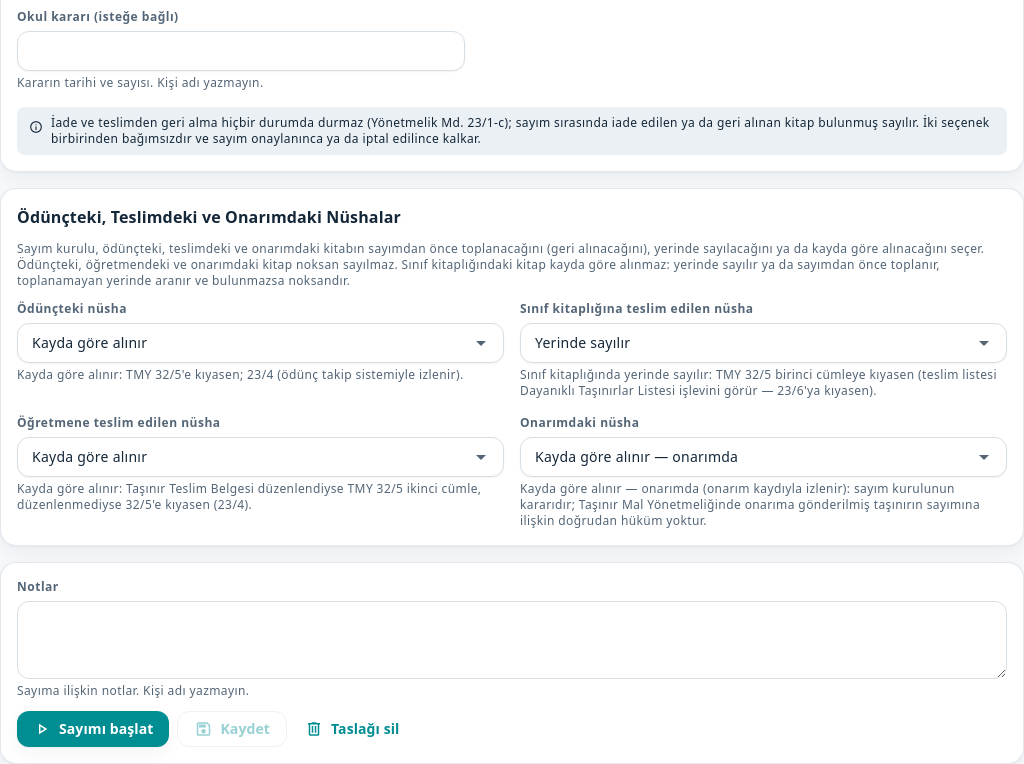
Taslak — kurul, iki ayrı seçenek, kurulun seçimi › başlat onayı seçilen seçenekleri yazar; sunucunun kurul reddi alanın altında
(page scrolled)
Click the button "Sayımı başlat" at point(93, 729), box [17,711,170,747]
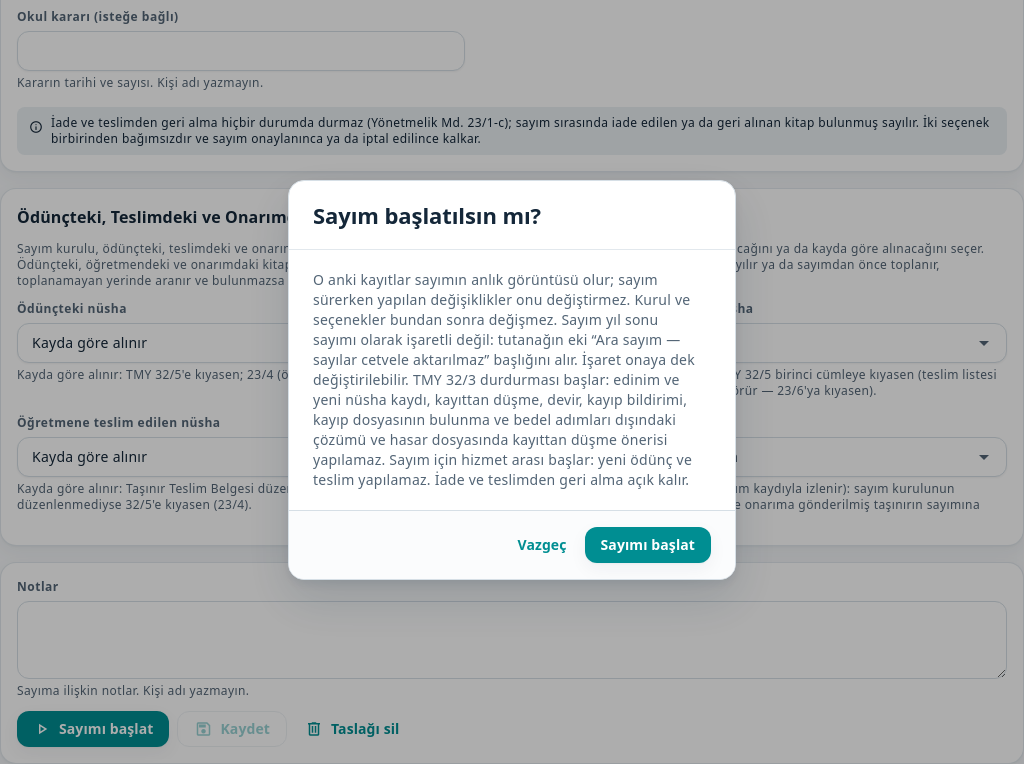
Expected: the text "İade ve teslimden geri alma açık kalır." is shown, [313,270,695,489]
Click the button "Sayımı başlat" at point(648, 545), box [584,527,711,563]
(page scrolled)
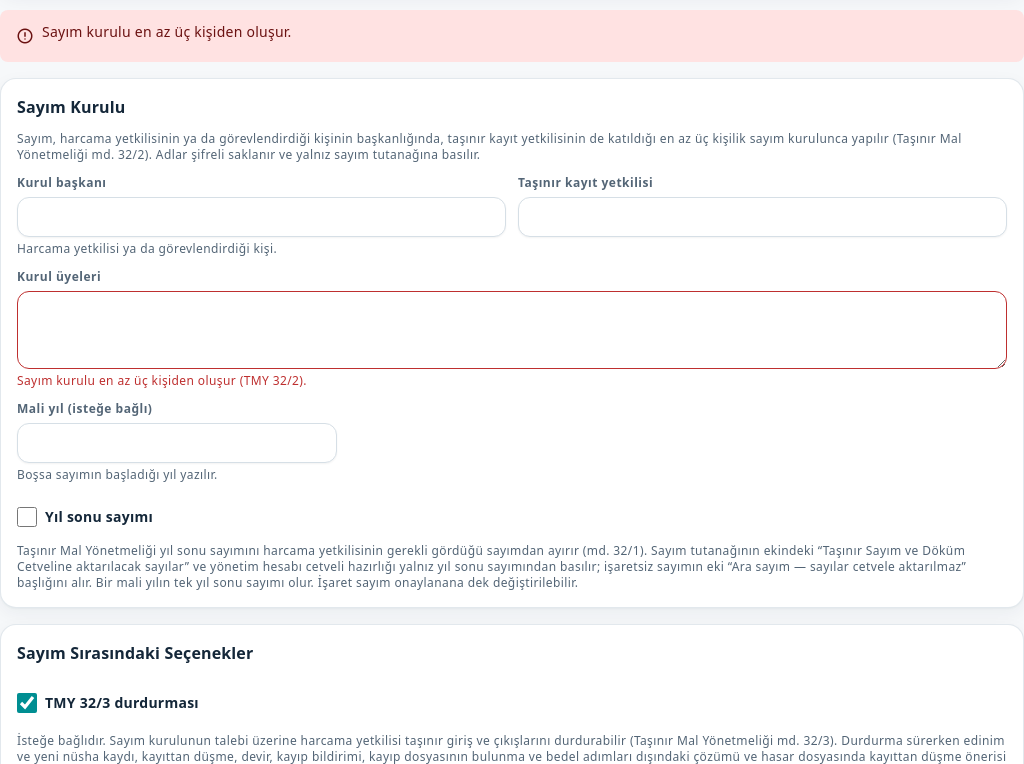
Expected: the text "Sayım kurulu en az üç kişiden oluşur (TMY 32/2)." is shown, [17,372,307,389]
